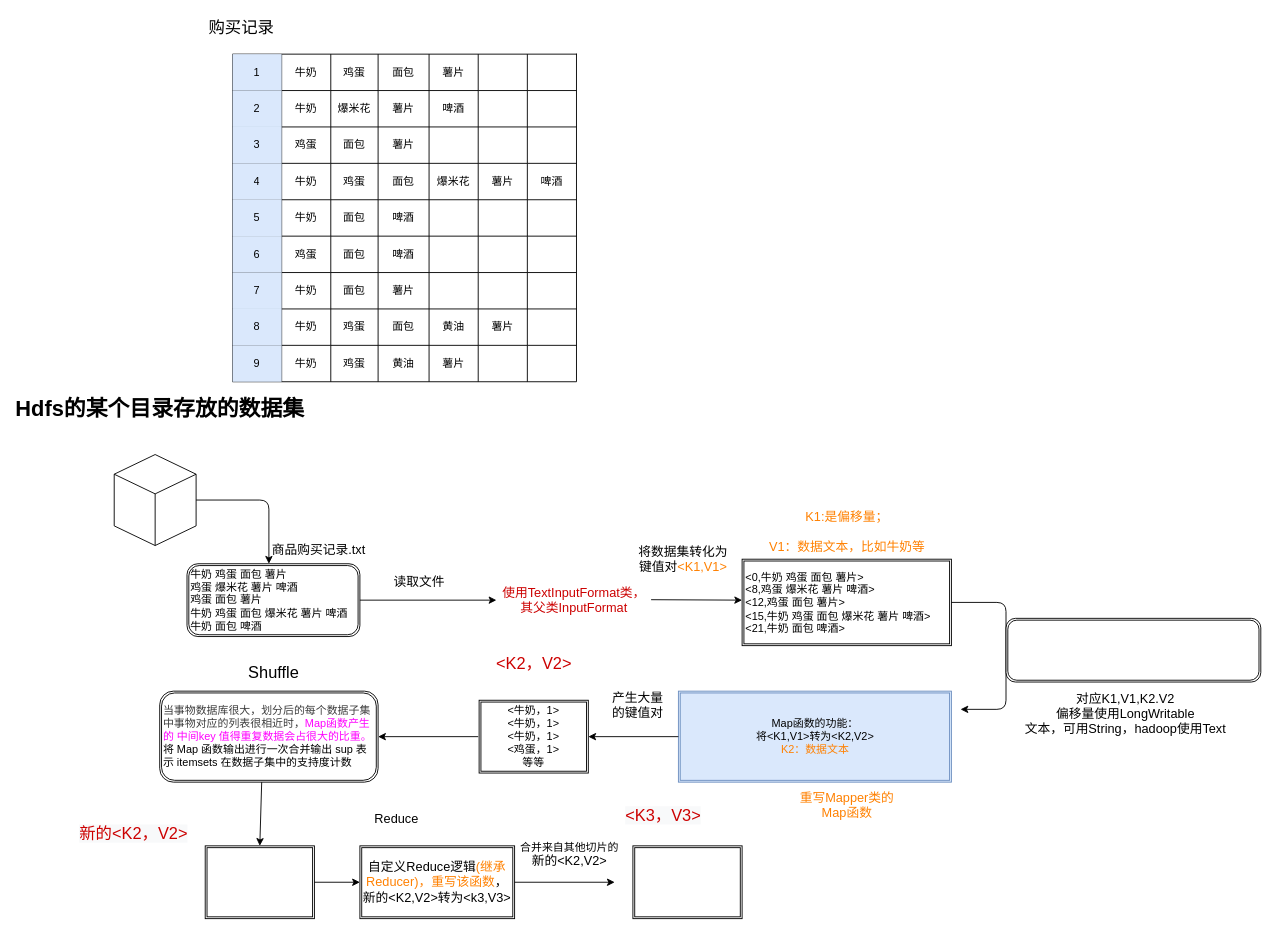
Some shapes in this 1277 by 935 pixel diagram are drawn without their labels. The box of each missing label's shape, as (x1, y1, x2, y2) in pixels:
<鸡蛋，2> <牛奶，3> 等等: (204, 845, 314, 919)
<鸡蛋，7> <牛奶，6> 等等: (632, 845, 742, 919)
将键值对<K1,V1>传入 Mapper类中，该类 有4个参数 （LongWritable,Text, Text , LongWritable ）: (1005, 617, 1261, 682)
